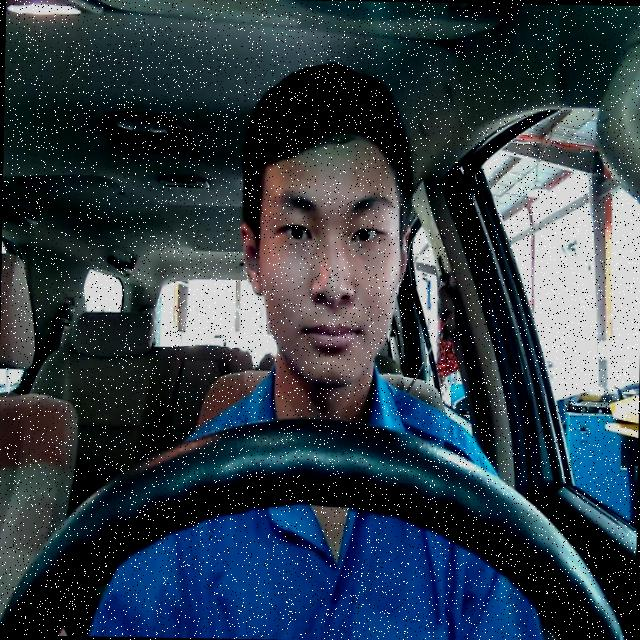focused: (236, 136, 412, 390)
